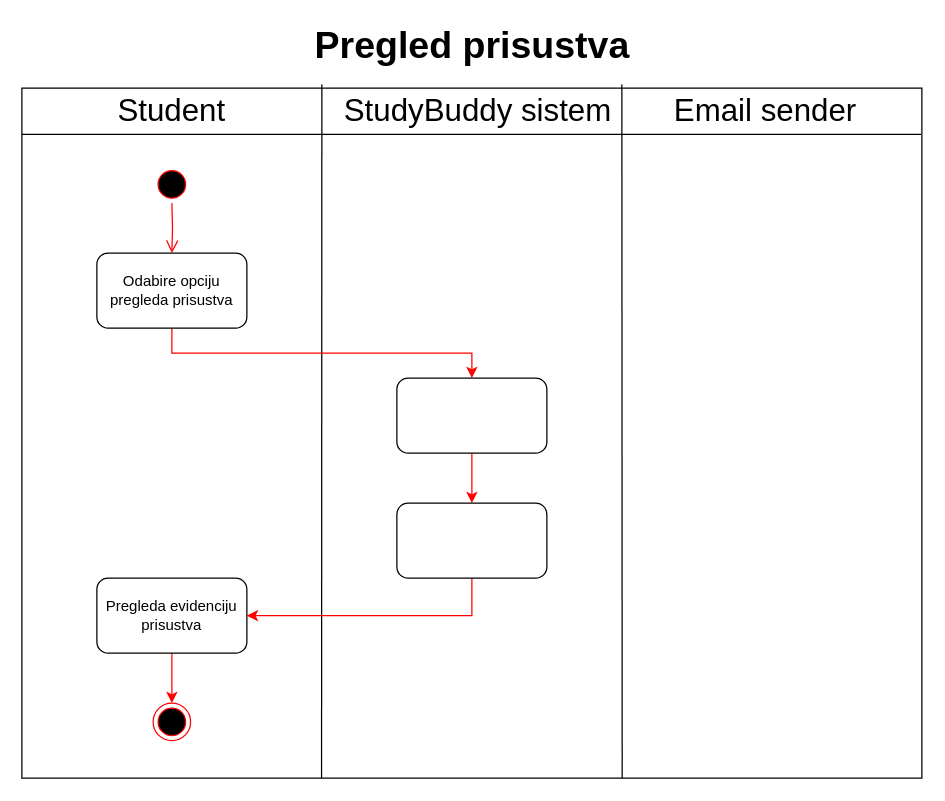
Image size: 945x801. Some labels were removed from this diagram. The box of each missing label's shape, as (x1, y1, x2, y2) in pixels:
Dohvaća podatke o prisustvu korisnika: (396, 377, 547, 453)
Prikazuje evidenciju prisustva: (396, 502, 547, 578)
